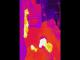Foc: (31, 33, 54, 56), (24, 7, 31, 38)
